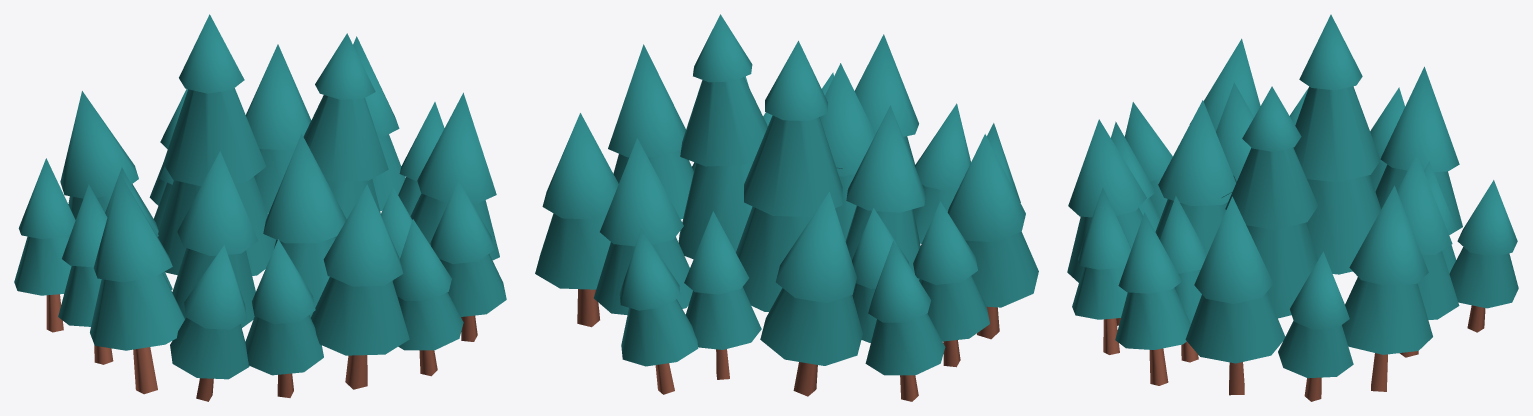
The model's file is Forest.fbx.
The picture shows the model from 3 angles, left to right: view 1: azimuth 30°, elevation 25°; view 2: azimuth 150°, elevation 25°; view 3: azimuth 270°, elevation 25°; orthographic projection. The views are drawn at different scales.
Visible parts, largest first — view 1: Forest, Stemps; view 2: Forest, Stemps; view 3: Forest, Stemps.
Part boxes in pixels (x1,y1,x2,y2): Forest: (14, 14, 506, 379); Stemps: (46, 294, 477, 401); Forest: (535, 14, 1038, 375); Stemps: (577, 289, 999, 401); Forest: (1067, 14, 1518, 378); Stemps: (1103, 305, 1485, 401).
Bounding box in the file's own units: 193 × 135 × 190.
